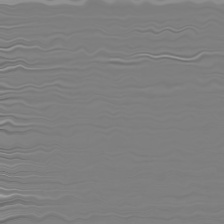cavities: (74, 29, 137, 136)
